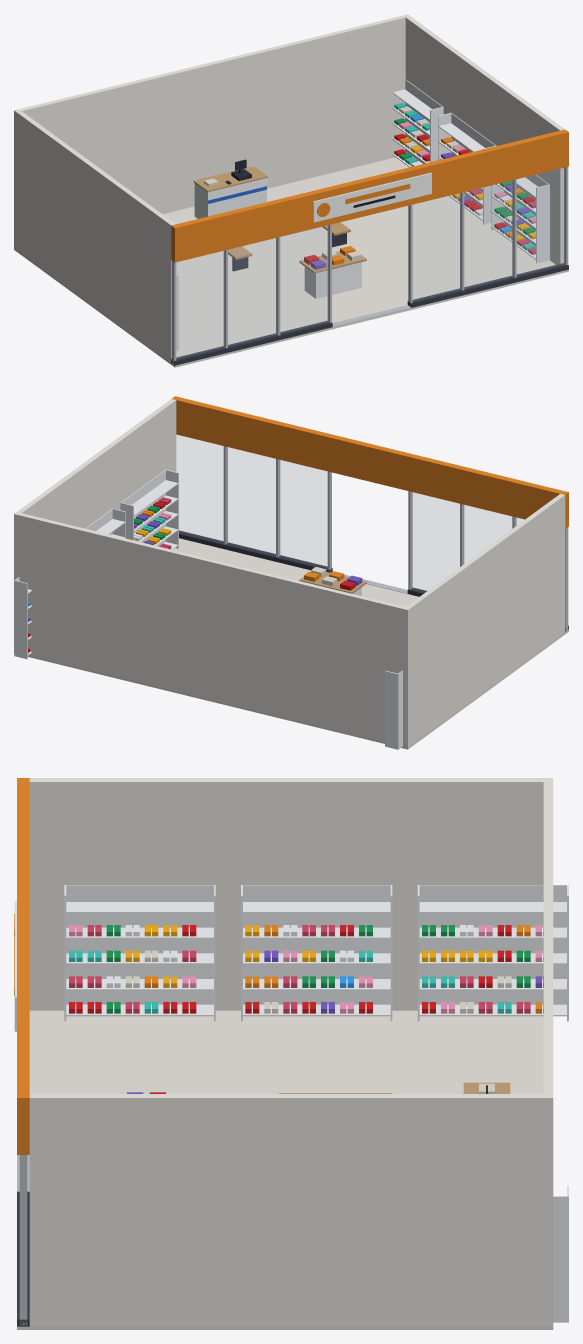
The model's file is mal-005.glb.
The picture shows the model from 3 angles, top to bottom: view 1: azimuth 30°, elevation 25°; view 2: azimuth 150°, elevation 25°; view 3: azimuth 270°, elevation 25°; orthographic projection. The views are drawn at different scales.
Visible parts, largest first — view 1: mall_wall, mall_floor, glass_clear, brand_shoes, white, stainless, dark_steel, oak, paper, accent_red, accent_teal, fruit_orange (+1 smaller); view 2: mall_wall, glass_clear, brand_shoes, white, mall_floor, stainless, dark_steel; view 3: mall_wall, white, mall_floor, brand_shoes, accent_red, brand_fashion, safety_green, accent_amber, stainless, chart_lanthanide, accent_teal, paper (+2 smaller).
Boxes of the visible parts, bbox=[...] form: mall_wall: bbox=[14, 14, 564, 362]; mall_floor: bbox=[14, 157, 568, 367]; glass_clear: bbox=[177, 168, 564, 358]; brand_shoes: bbox=[171, 129, 568, 262]; white: bbox=[176, 79, 549, 351]; stainless: bbox=[172, 167, 568, 364]; dark_steel: bbox=[171, 233, 568, 365]; oak: bbox=[193, 166, 366, 273]; paper: bbox=[204, 106, 518, 260]; accent_red: bbox=[304, 133, 535, 264]; accent_teal: bbox=[394, 102, 535, 250]; fruit_orange: bbox=[332, 137, 523, 265]; mall_wall: bbox=[14, 399, 565, 747]; glass_clear: bbox=[177, 435, 523, 591]; brand_shoes: bbox=[171, 396, 568, 528]; white: bbox=[14, 469, 402, 749]; mall_floor: bbox=[14, 538, 568, 749]; stainless: bbox=[223, 446, 568, 631]; dark_steel: bbox=[179, 530, 568, 631]; mall_wall: bbox=[29, 778, 553, 1326]; white: bbox=[14, 885, 568, 1322]; mall_floor: bbox=[17, 1010, 553, 1329]; brand_shoes: bbox=[14, 778, 29, 1154]; accent_red: bbox=[69, 925, 511, 1093]; brand_fashion: bbox=[69, 925, 530, 1013]; safety_green: bbox=[106, 925, 530, 1013]; accent_amber: bbox=[125, 925, 492, 987]; stainless: bbox=[17, 1155, 29, 1325]; chart_lanthanide: bbox=[69, 925, 543, 1013]; accent_teal: bbox=[69, 950, 511, 1013]; paper: bbox=[125, 950, 511, 1093].
Size of the model in its own units: 12 by 4.06 by 8.8.
